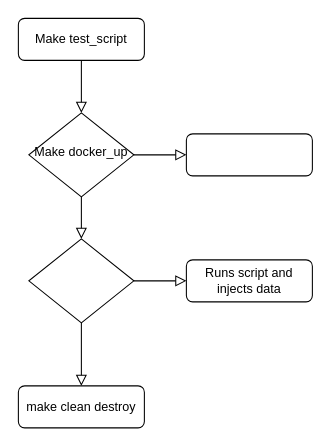
The diagram is 331 pixels wide and 446 high, and some of its shapes have lost their labels. Here are the shapes that lost their labels. From the top down, the centre of each, then its label:
At point 248,154: "Docker Services".
At point 81,280: "make script_exec".
